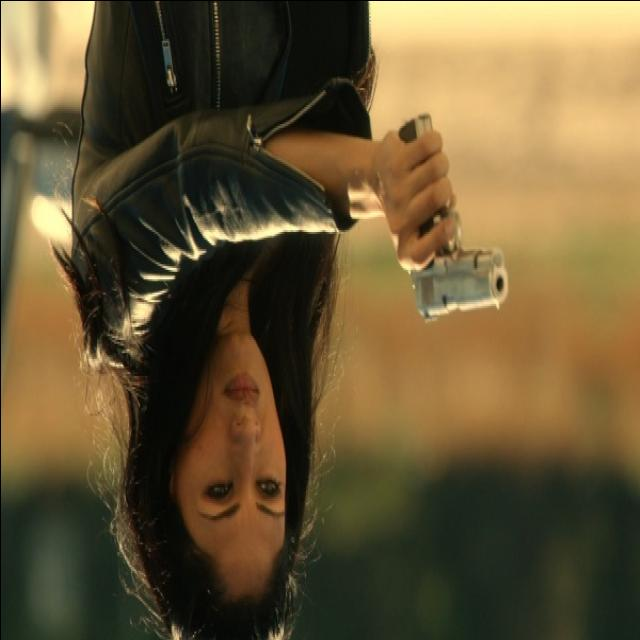weapons: (387, 97, 522, 336)
